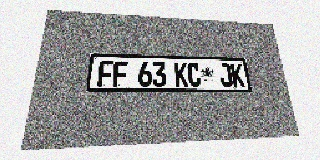3: (152, 62, 166, 87)
6: (138, 61, 152, 87)
C: (187, 63, 201, 87)
F: (97, 61, 114, 87), (113, 61, 128, 87)
J: (218, 63, 233, 87)
K: (174, 62, 188, 87), (230, 64, 245, 87)
